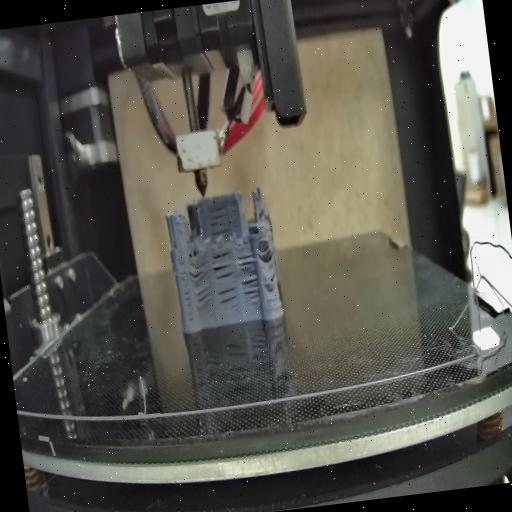cracks: (204, 198, 232, 239), (178, 264, 195, 322), (210, 247, 236, 280), (218, 284, 240, 312), (240, 276, 261, 302), (195, 286, 216, 310), (188, 263, 210, 285), (236, 250, 258, 272), (262, 246, 274, 258), (266, 270, 276, 284), (172, 238, 178, 252)
